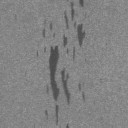red iron: (44, 0, 86, 126), (42, 22, 53, 38), (78, 83, 85, 102), (44, 109, 48, 120), (36, 50, 38, 58), (66, 123, 69, 128)
